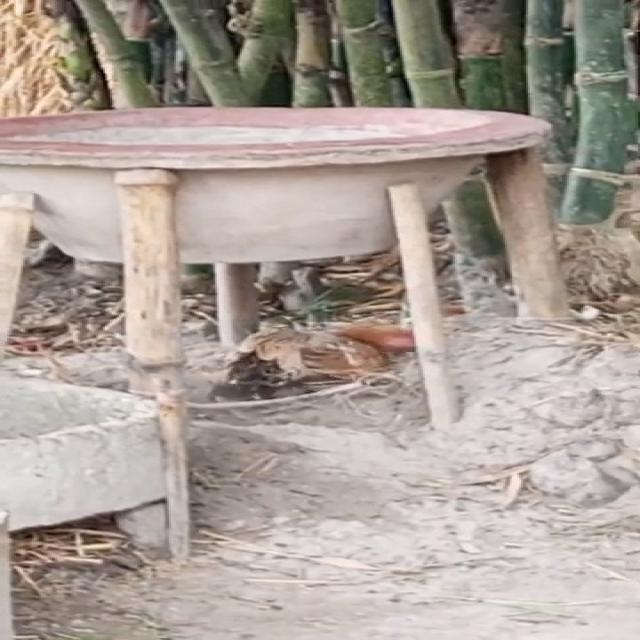stand bath: (192, 298, 434, 412)
